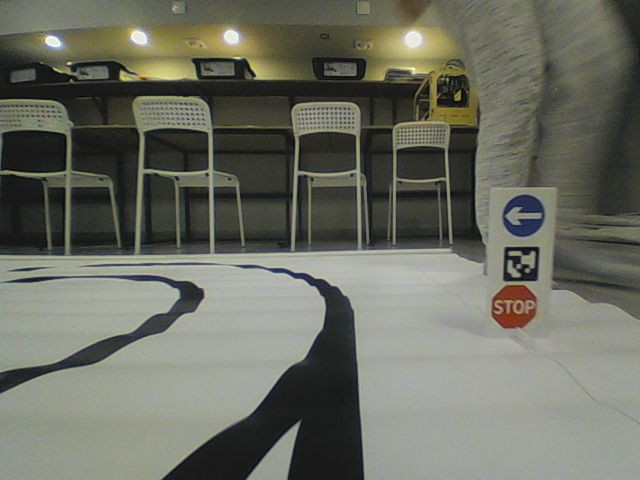Stop: (488, 283, 540, 331)
